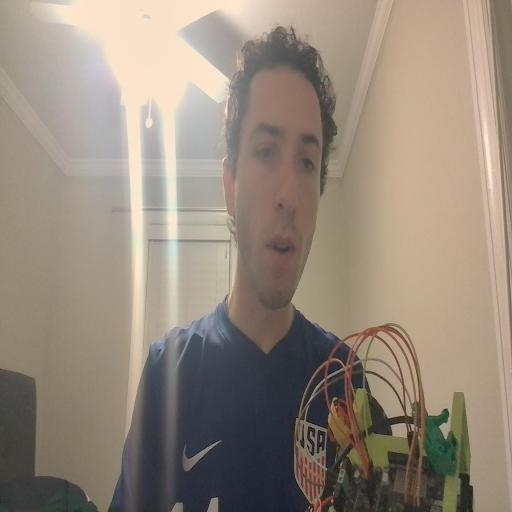green LEGO minifig: (410, 398, 460, 478)
